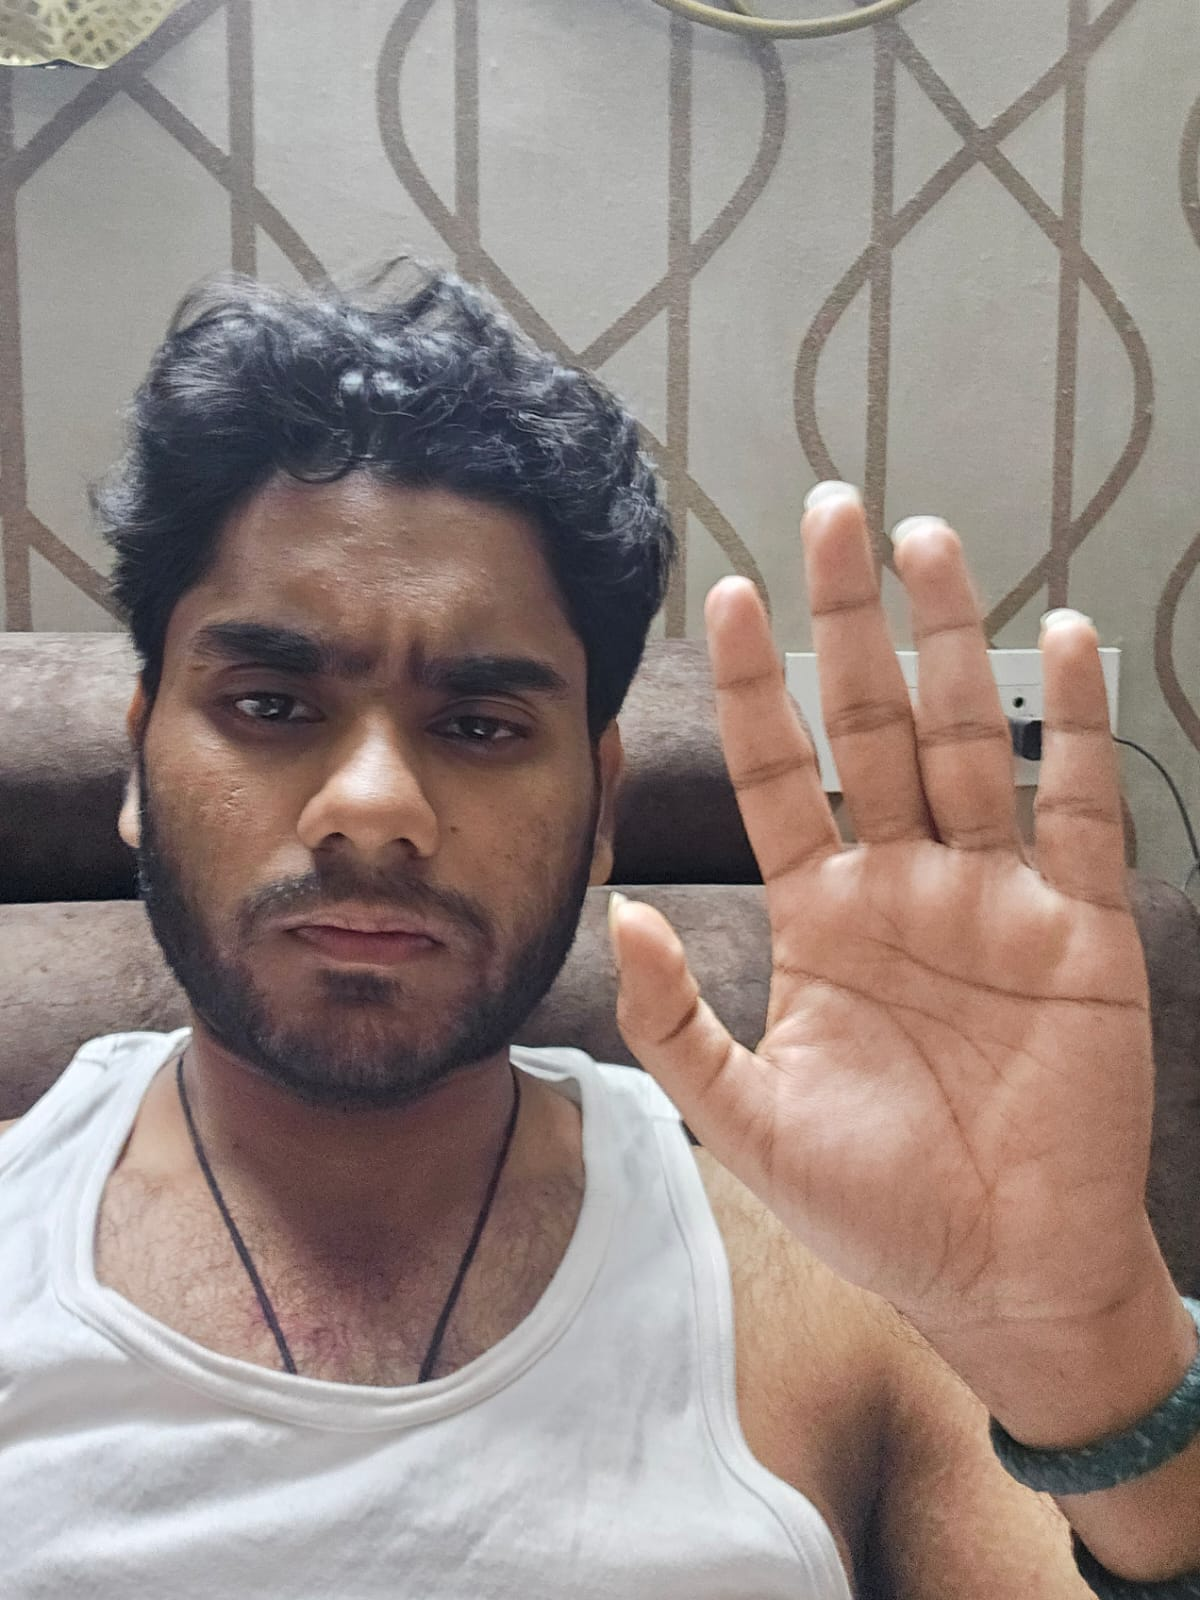hello: (604, 481, 1155, 1327)
